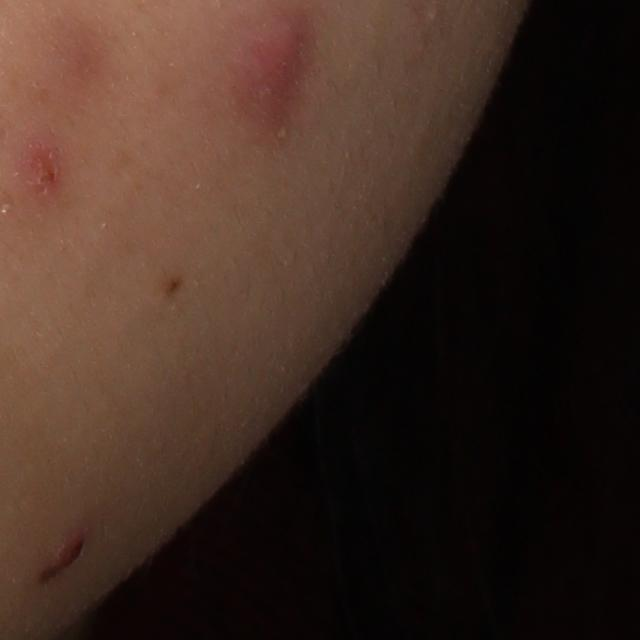nevus: (163, 273, 185, 295)
papule: (1, 138, 80, 208), (40, 523, 82, 582)
